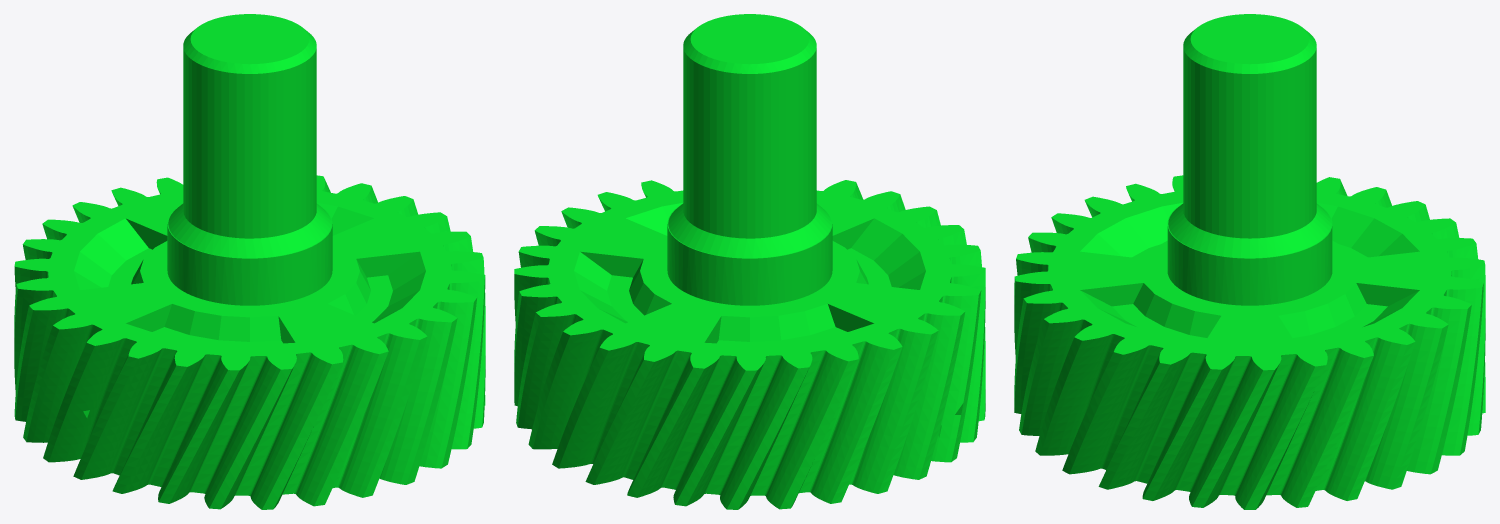
The model's file is largeGear_v2.dae.
3 renders of one model, left to right at view 1: azimuth 30°, elevation 25°; view 2: azimuth 150°, elevation 25°; view 3: azimuth 270°, elevation 25°, orthographic.
Parts seen in each view (by area): view 1: node0; view 2: node0; view 3: node0.
Boxes of the visible parts, <box> form: node0: <box>14,14,485,509</box>; node0: <box>514,14,985,509</box>; node0: <box>1014,14,1485,509</box>.
Bounding box in the file's own units: 0.0635 × 0.0635 × 0.0552.
